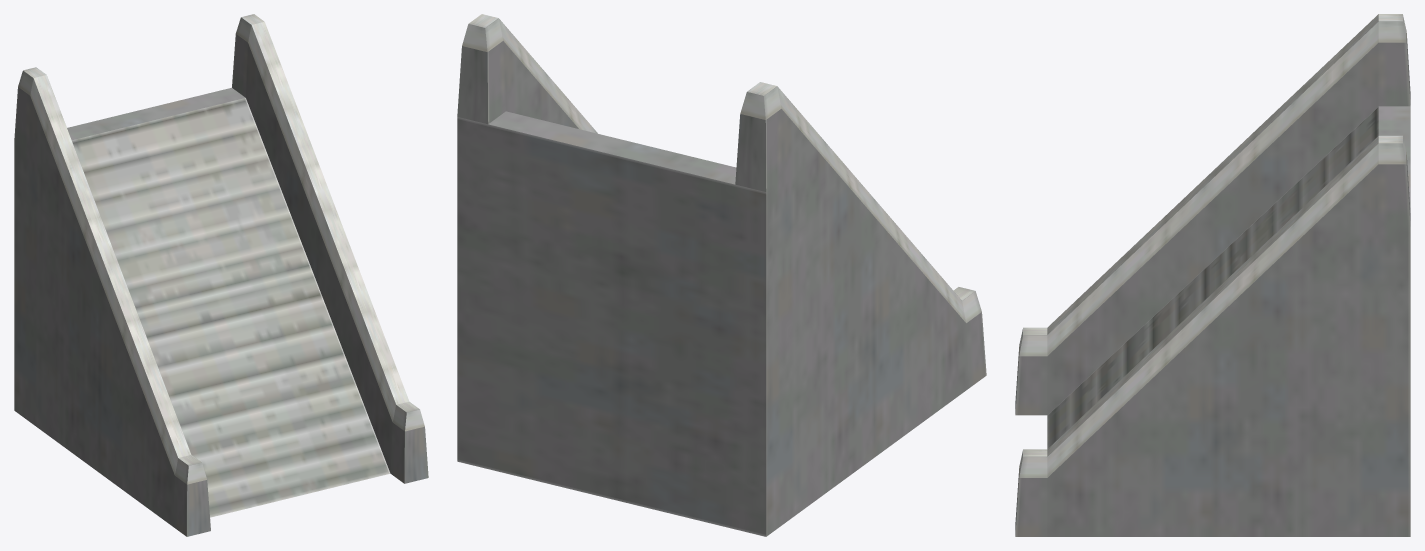
Rendered from thm_corl_imprv_stair_medium_s01_l2.fbx.
The picture shows the model from 3 angles, left to right: view 1: azimuth 30°, elevation 25°; view 2: azimuth 150°, elevation 25°; view 3: azimuth 270°, elevation 25°; orthographic projection. The views are drawn at different scales.
Parts seen in each view (by area): view 1: mesh_node; view 2: mesh_node; view 3: mesh_node.
Part boxes in pixels (left/top/right/bottom): mesh_node: left=14, top=14, right=428, bottom=536; mesh_node: left=457, top=14, right=986, bottom=536; mesh_node: left=1015, top=14, right=1410, bottom=536.
Size of the model in its own units: 7.5 by 10.12 by 9.27.
